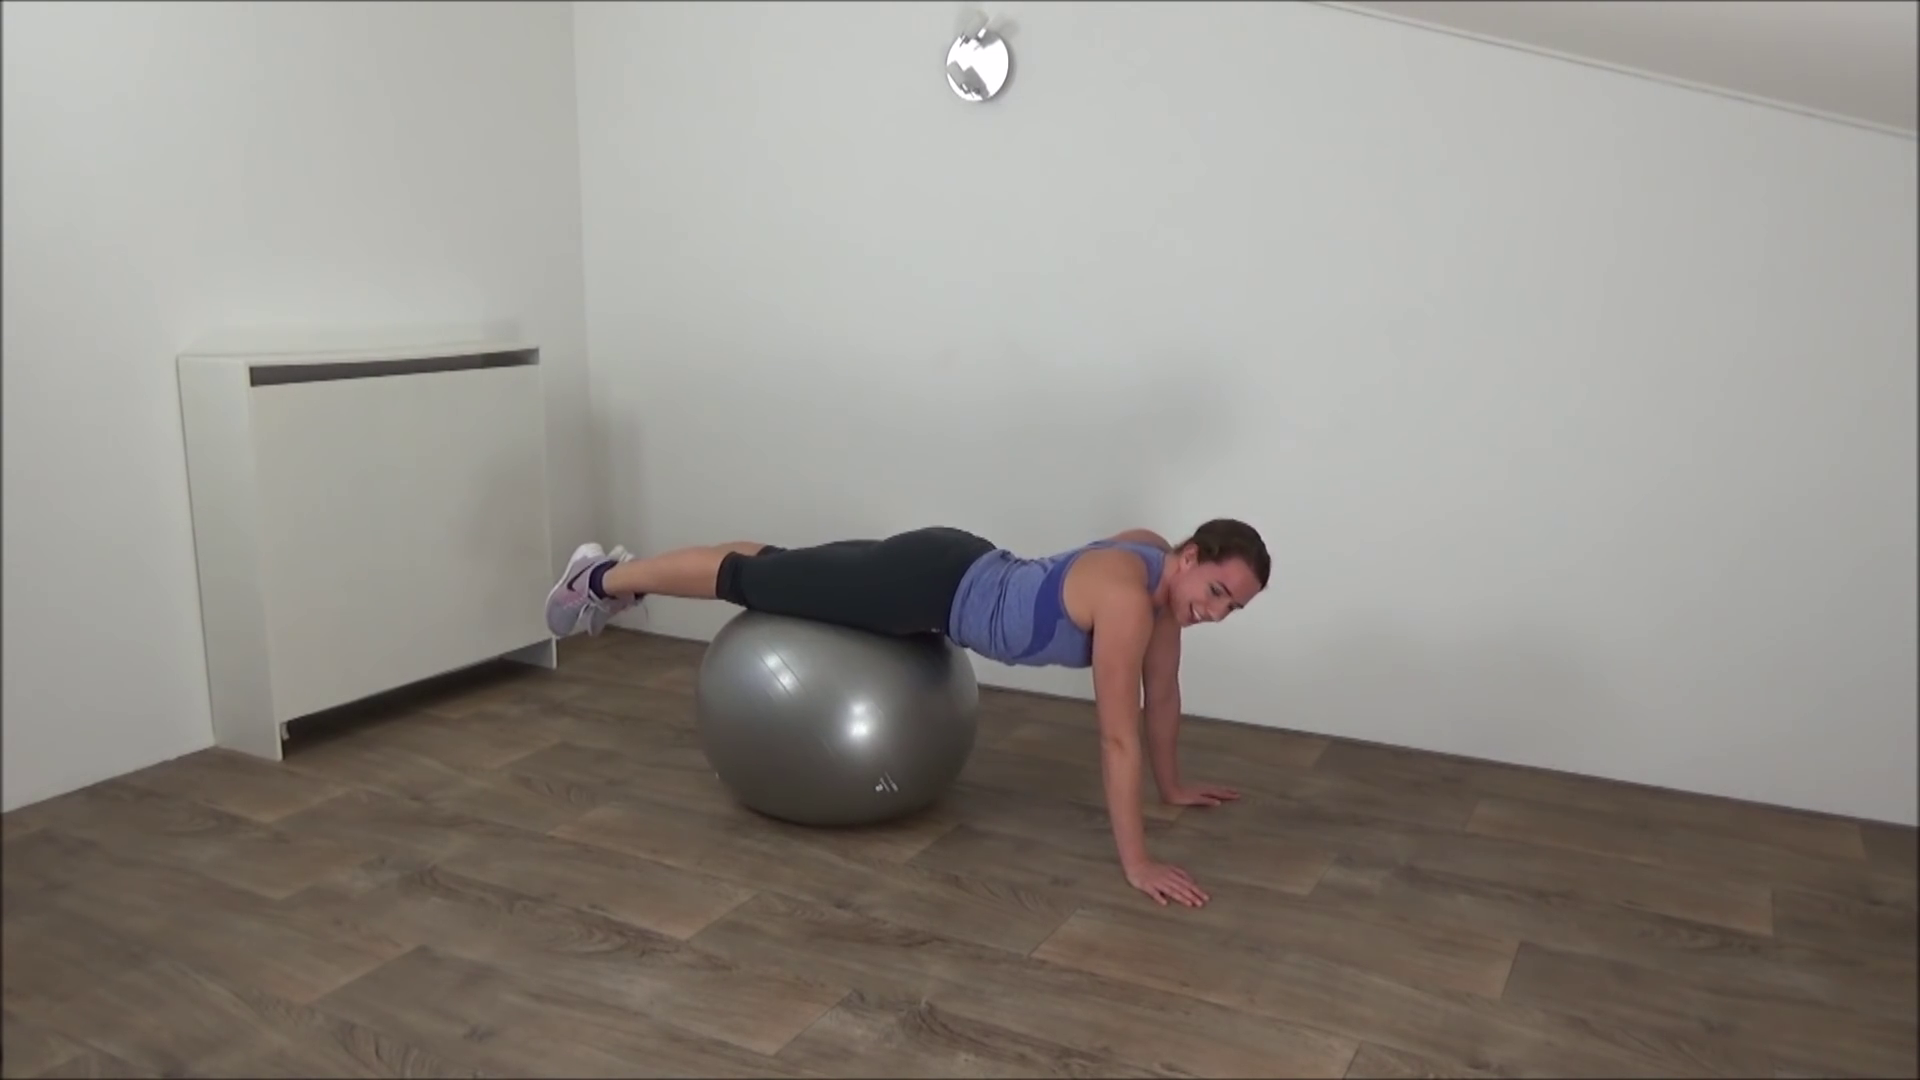yogaball: (678, 589, 986, 841)
